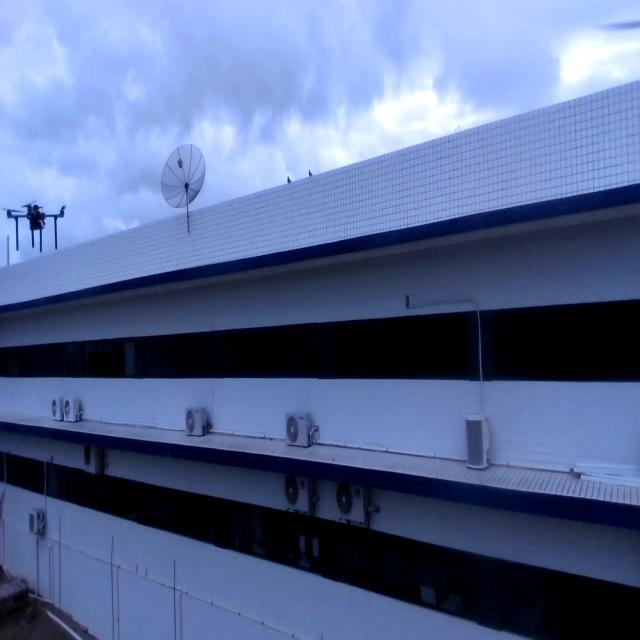-uav-: (1, 190, 68, 262)
